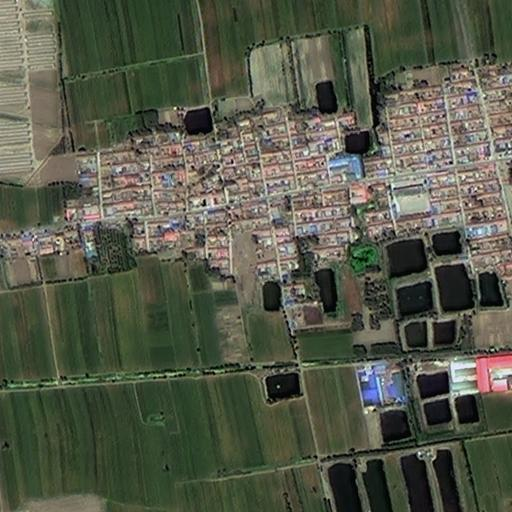school: (389, 172, 433, 222)
